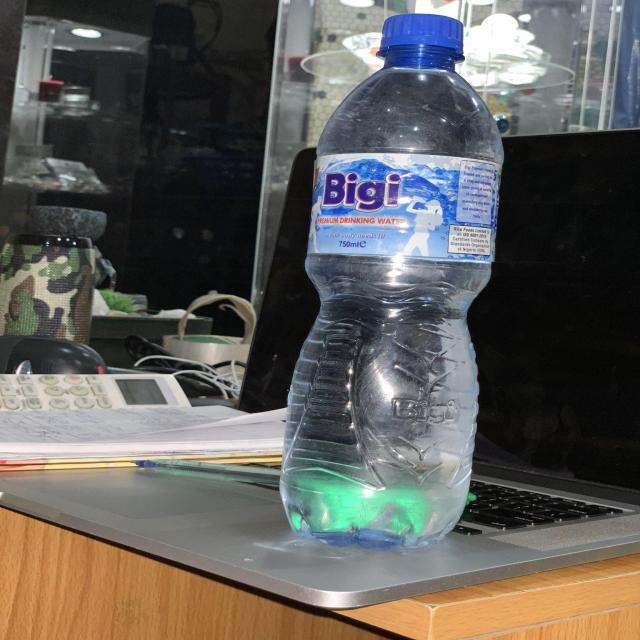bottle: (272, 7, 514, 556)
